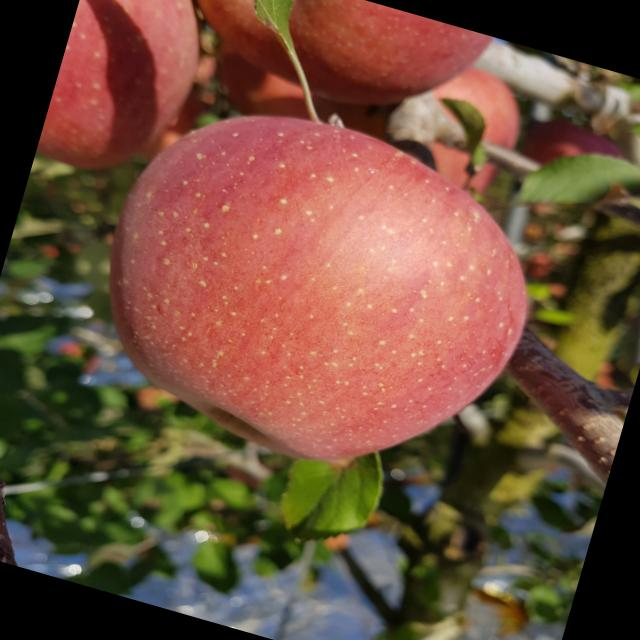fresh: (55, 64, 580, 523)
